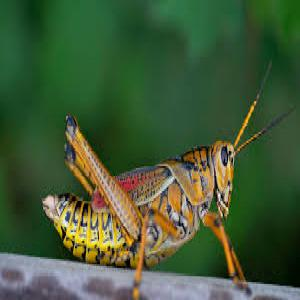locust: (56, 94, 272, 262)
